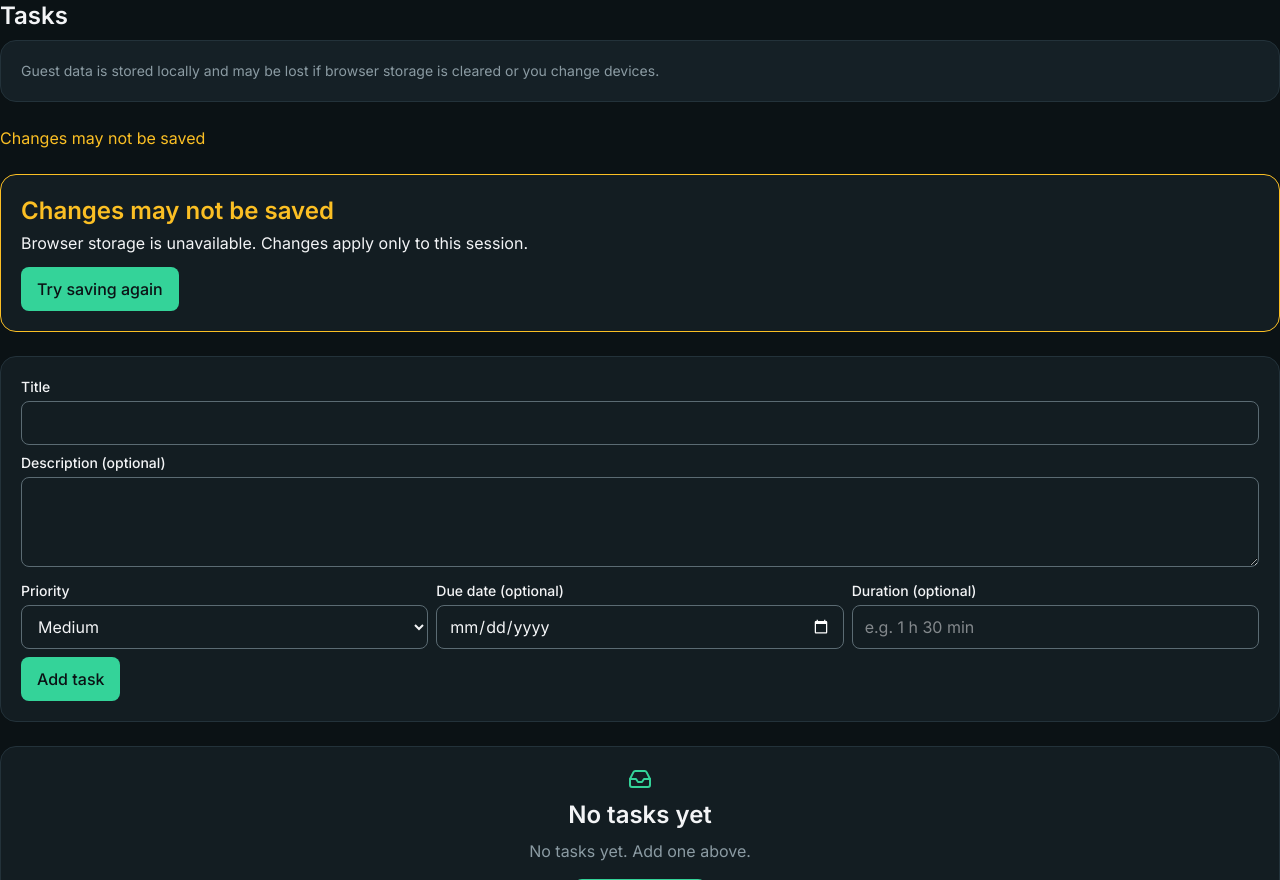
Test: task page states › retries persistence from memory-only mode and returns to normal
Type "Retry task" into the field labelled "Title" at (640, 423), box left=21, top=401, right=1259, bottom=445
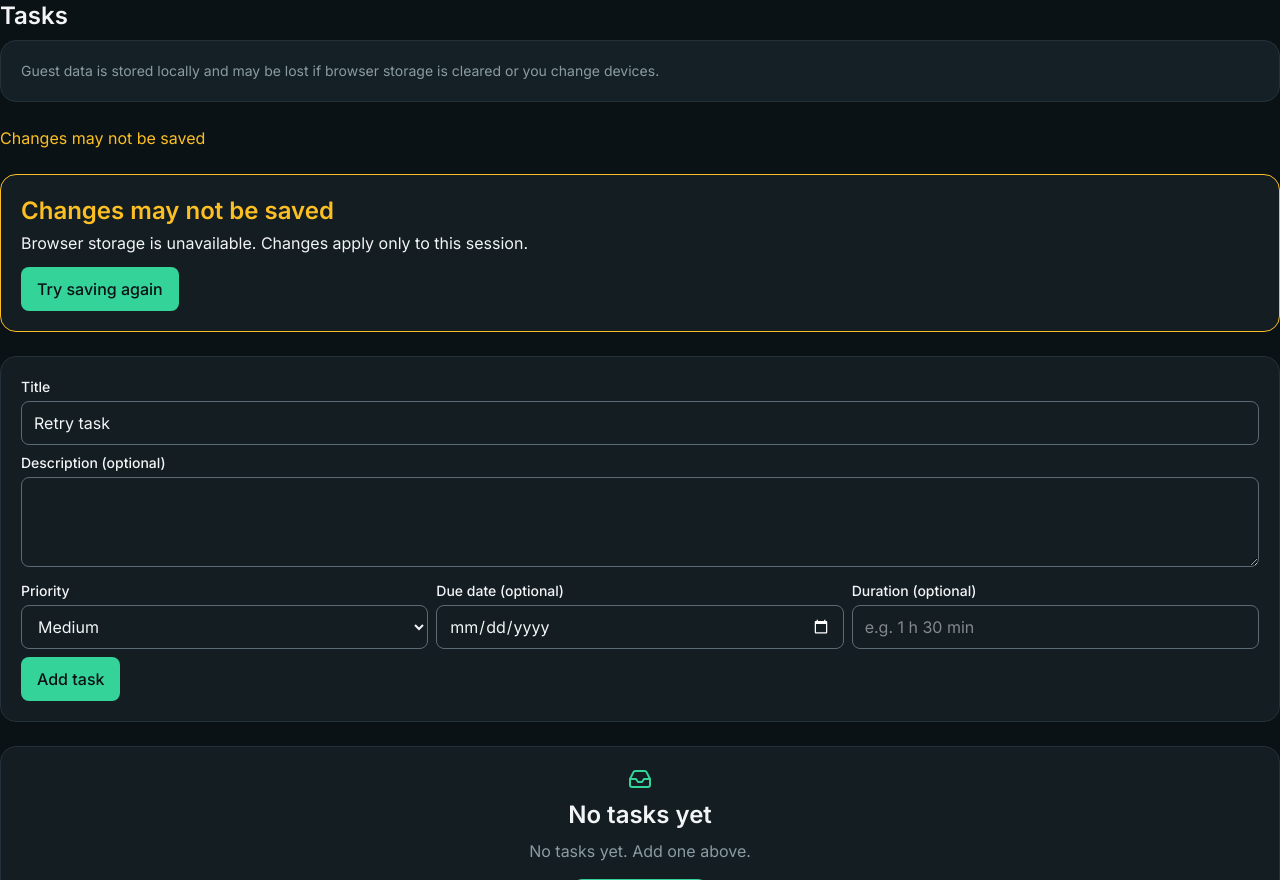
Click the button "Add task" at (71, 679), box left=21, top=657, right=120, bottom=701
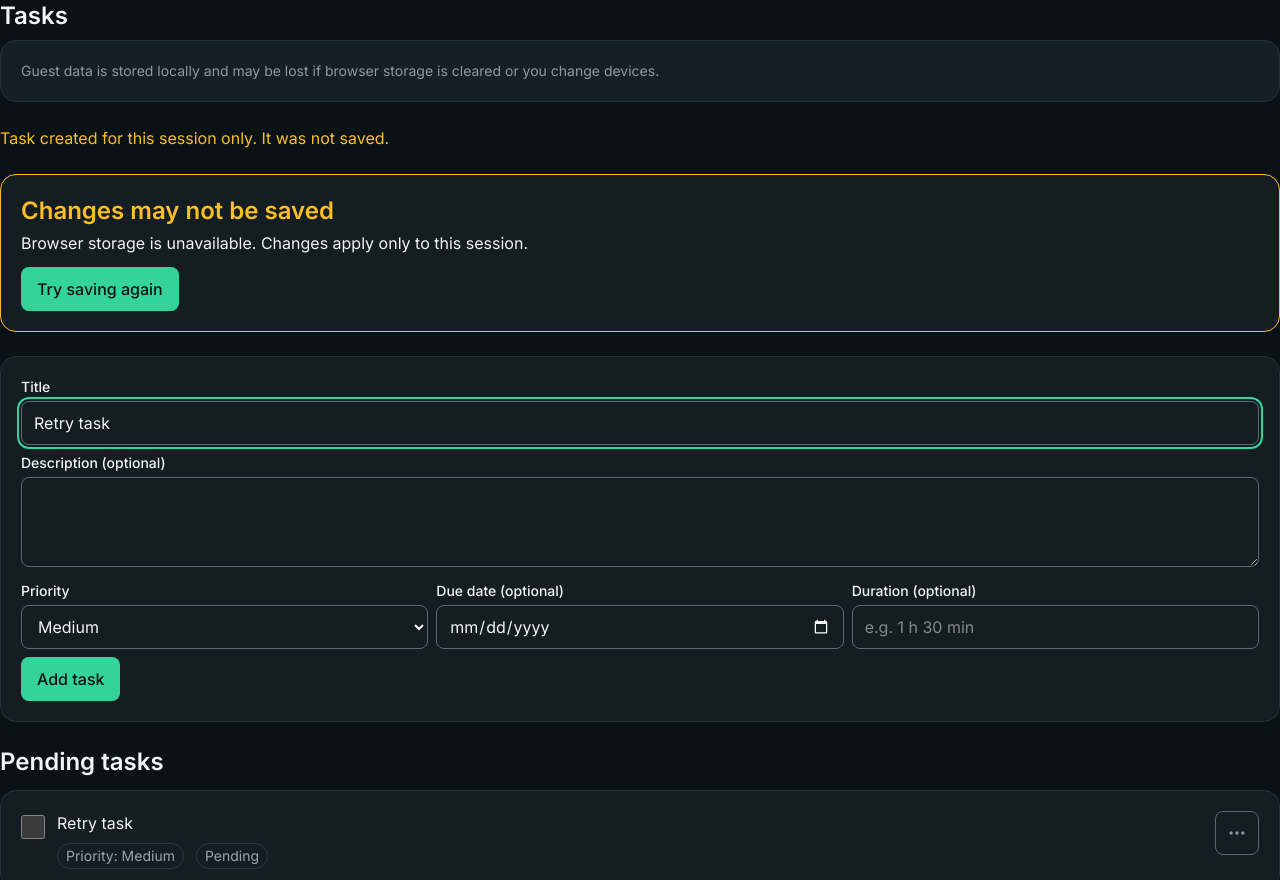
Now the text "Retry task" is shown, box left=57, top=813, right=133, bottom=833
Click the button "Try saving again" at (100, 289), box left=21, top=267, right=179, bottom=311
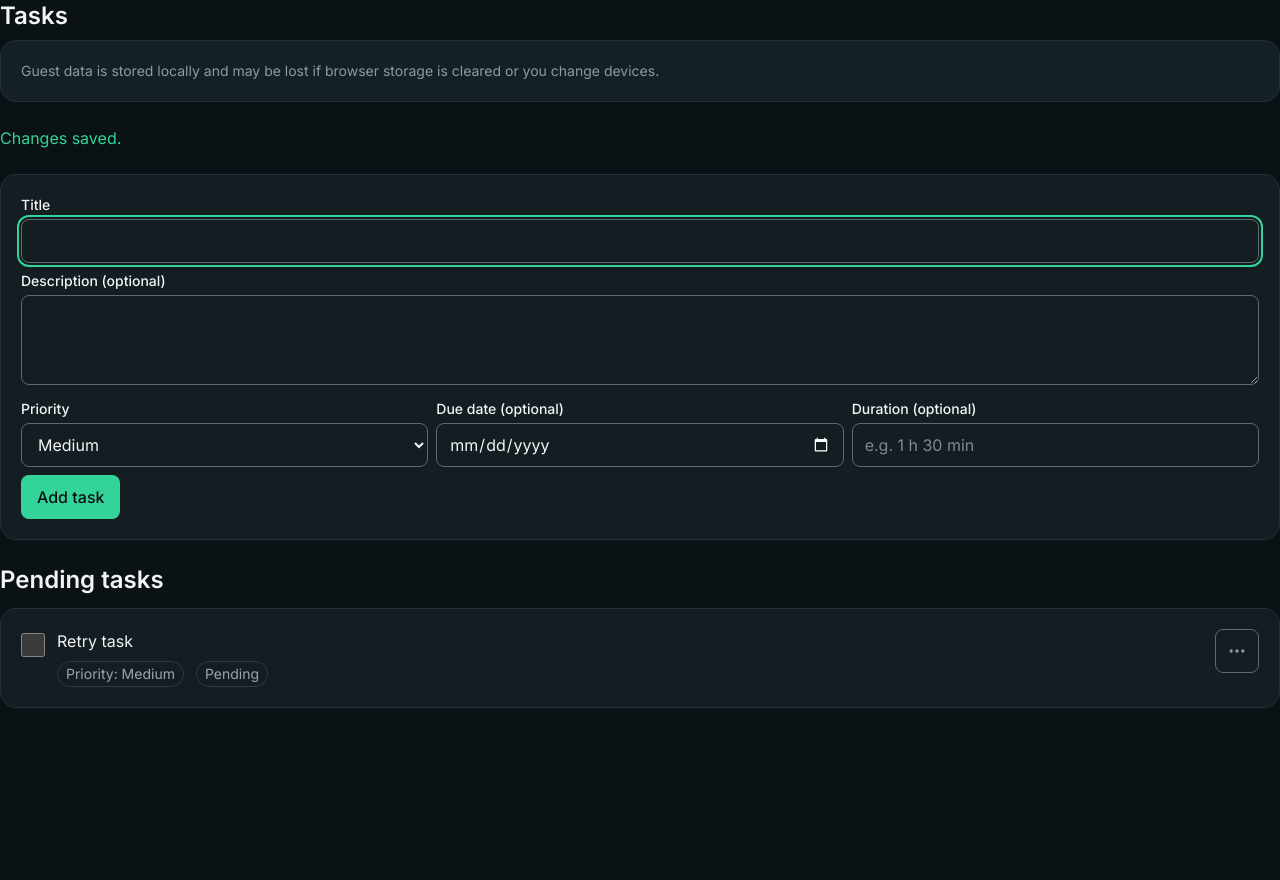
Now the heading "Changes may not be saved" is gone
Now the message reads "Changes saved.", box left=0, top=128, right=121, bottom=148
